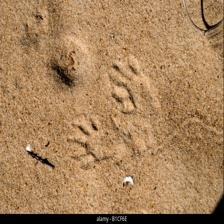raccoon: (101, 57, 164, 118), (67, 120, 130, 172)
